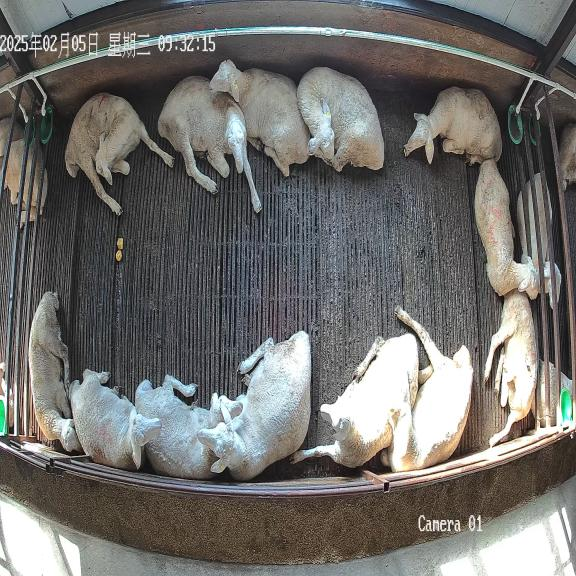lying: (291, 334, 418, 467), (198, 331, 311, 480), (381, 310, 473, 472), (158, 76, 261, 212), (65, 93, 173, 215), (209, 59, 310, 176), (135, 375, 243, 480), (69, 369, 161, 470), (474, 160, 540, 299), (297, 67, 384, 171), (29, 291, 82, 451), (484, 290, 537, 445), (404, 87, 502, 164)
